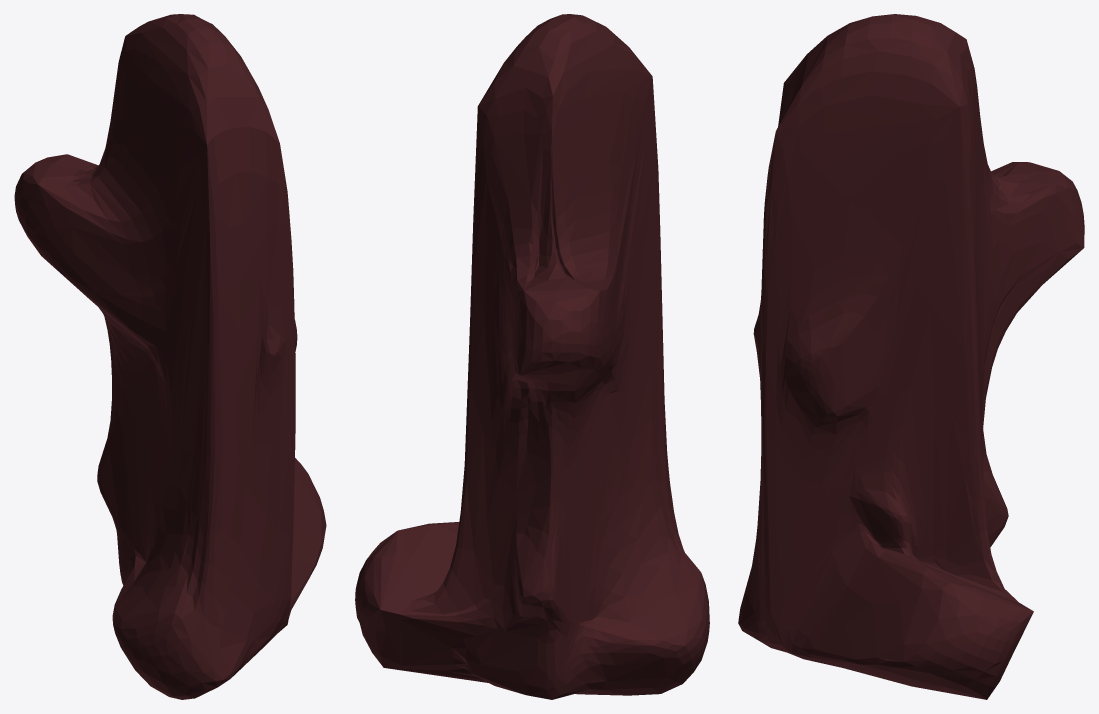
3 renders of one model, left to right at view 1: azimuth 30°, elevation 25°; view 2: azimuth 150°, elevation 25°; view 3: azimuth 270°, elevation 25°, orthographic. The views are drawn at different scales.
Visible parts, largest first — view 1: 051_Cube.207; view 2: 051_Cube.207; view 3: 051_Cube.207.
Part boxes in pixels (x1,y1,x2,y2): 051_Cube.207: (14, 14, 326, 699); 051_Cube.207: (355, 14, 709, 699); 051_Cube.207: (738, 14, 1084, 699).
Bounding box in the file's own units: 4.99 × 12.04 × 5.69.
